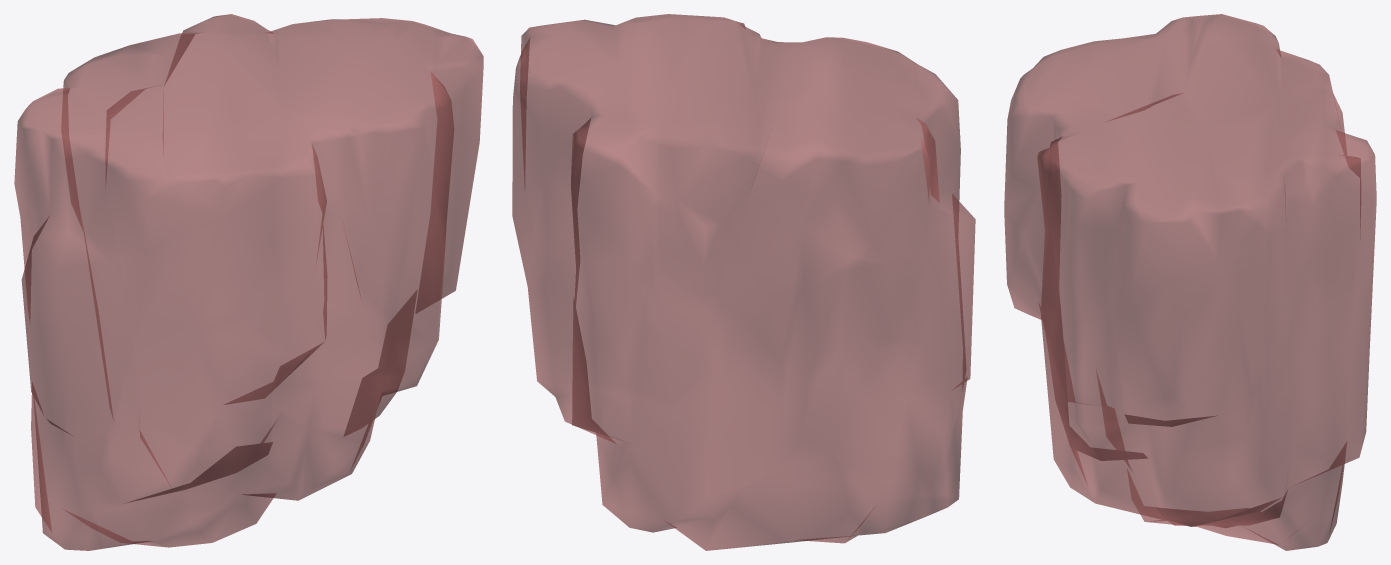
The model's file is SM_Cliff_Large_01_Complex_Collision.fbx.
The picture shows the model from 3 angles, left to right: view 1: azimuth 30°, elevation 25°; view 2: azimuth 150°, elevation 25°; view 3: azimuth 270°, elevation 25°; orthographic projection. The views are drawn at different scales.
Parts seen in each view (by area): view 1: SM_Cliff_Large_01_Complex_Collision; view 2: SM_Cliff_Large_01_Complex_Collision; view 3: SM_Cliff_Large_01_Complex_Collision.
Part boxes in pixels (box(x1,y1,x2,y2)): SM_Cliff_Large_01_Complex_Collision: box(14, 14, 483, 550); SM_Cliff_Large_01_Complex_Collision: box(512, 14, 975, 550); SM_Cliff_Large_01_Complex_Collision: box(1004, 14, 1376, 550).
Bounding box in the file's own units: 1717 × 1661 × 1266.
